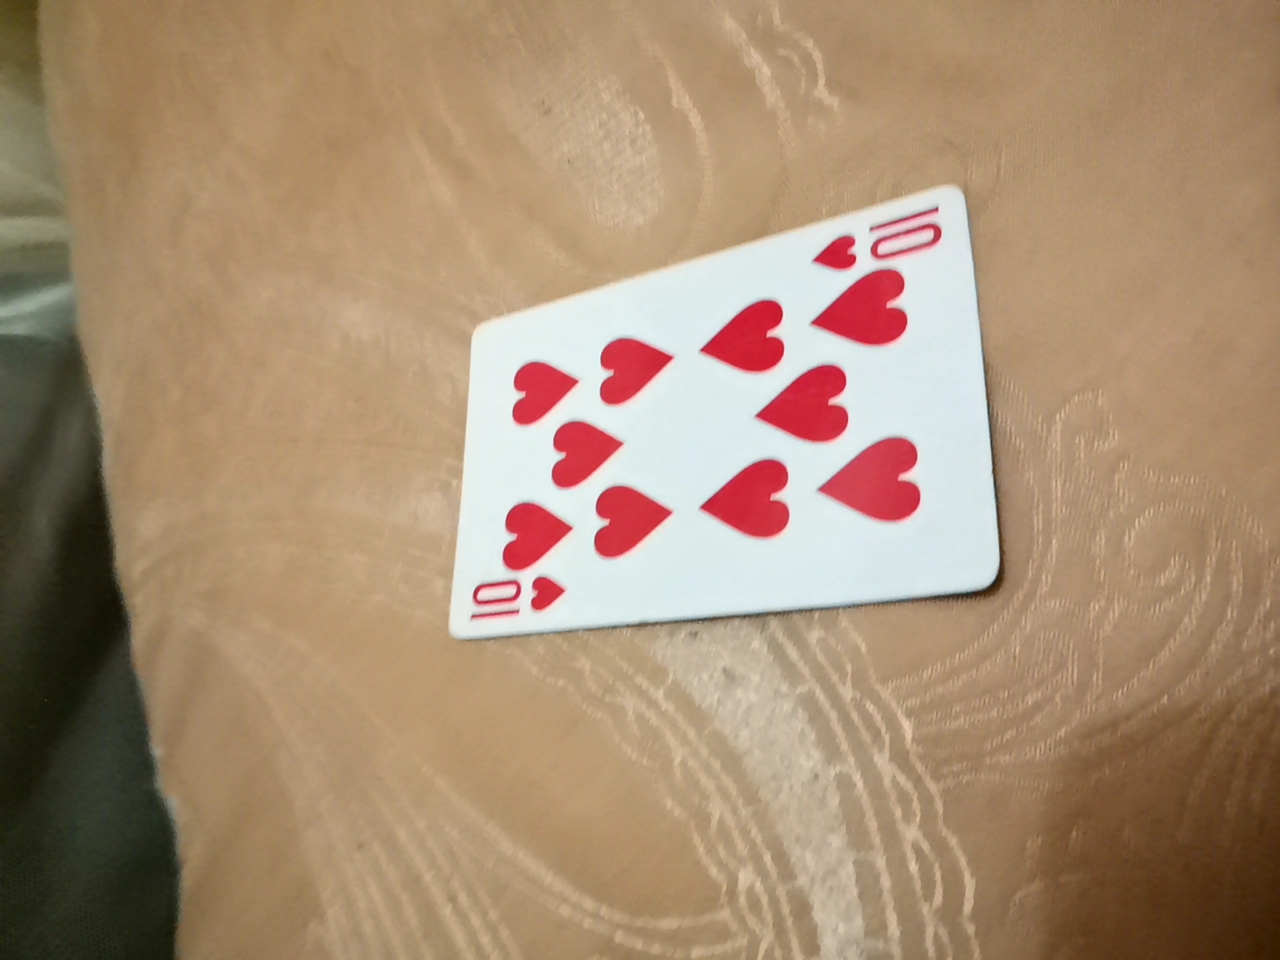hx 10: (435, 212, 996, 646)
